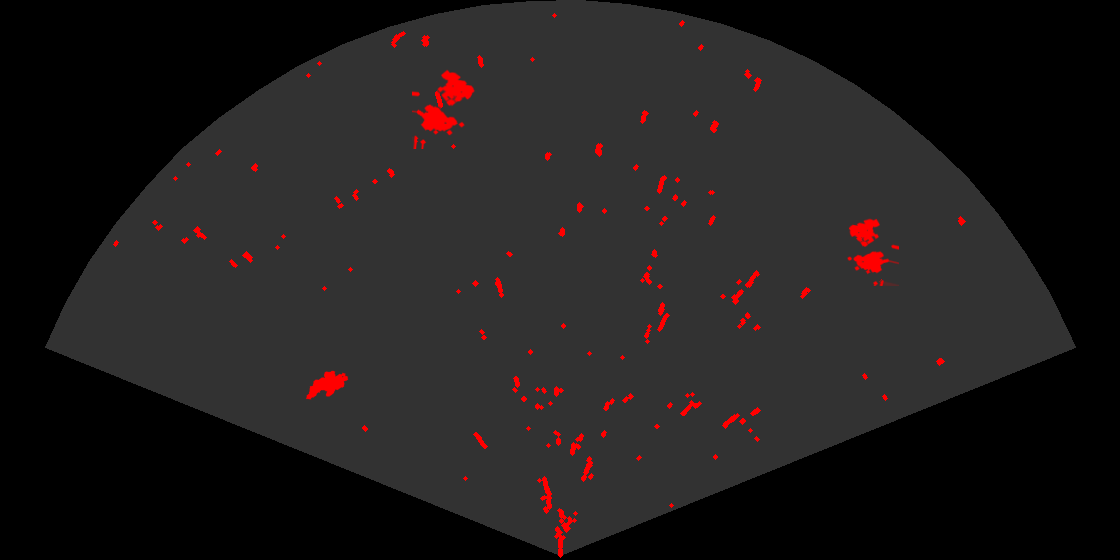AUV: (304, 369, 350, 401)
cage: (412, 68, 476, 149), (846, 217, 899, 286)
